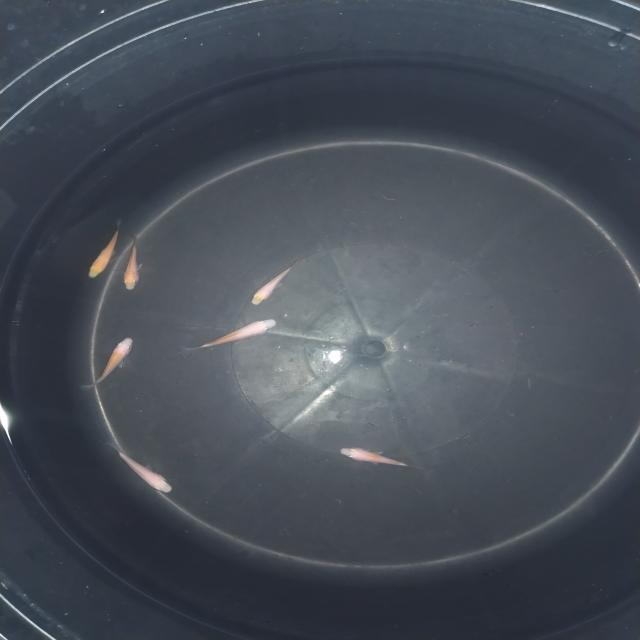nila: (104, 442, 174, 495), (185, 318, 279, 357), (84, 337, 136, 390), (247, 262, 300, 306), (337, 445, 422, 472), (85, 220, 122, 280), (120, 232, 140, 292)
